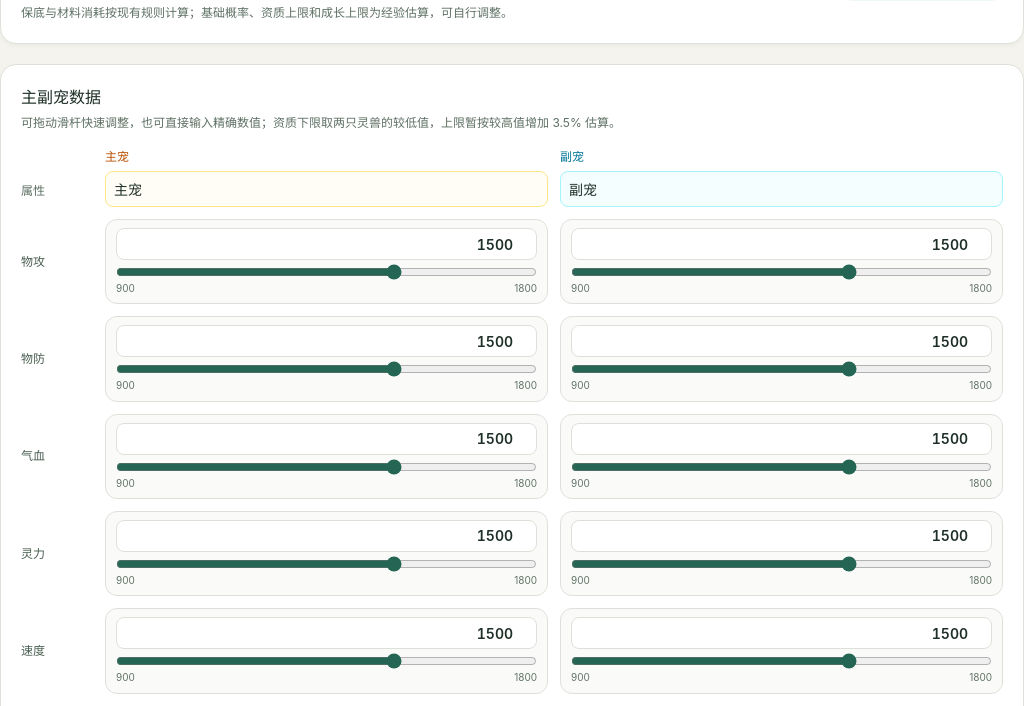
Test: SpiritBeastFusionSimulator › 允许清空资质输入框后重新输入范围内数值
Replace the text in the number field named "主宠物攻资质" with "1300" at (326, 244), box [116, 228, 537, 260]
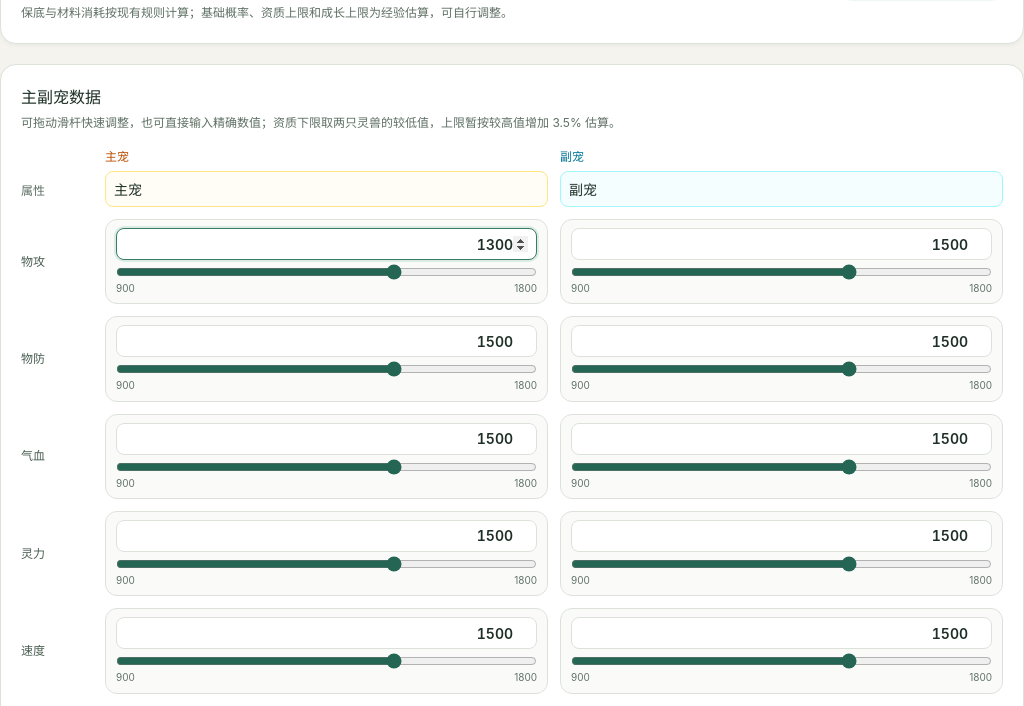
Press Tab
(page scrolled)
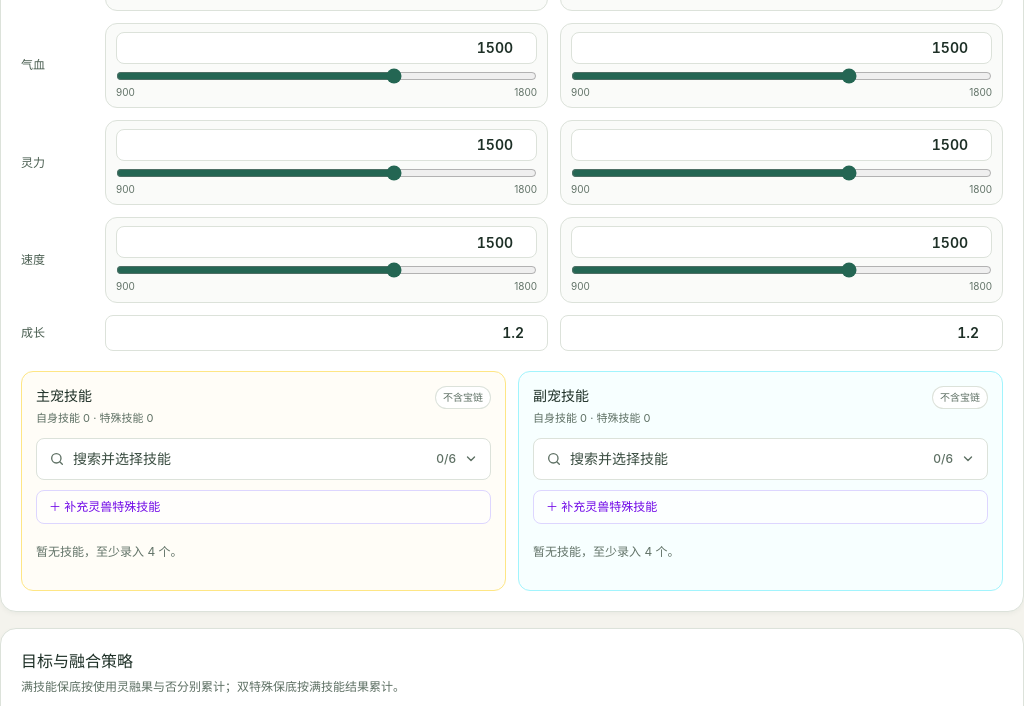
Replace the text in the number field named "主宠成长" with "1.3" at (326, 333), box [105, 315, 548, 351]
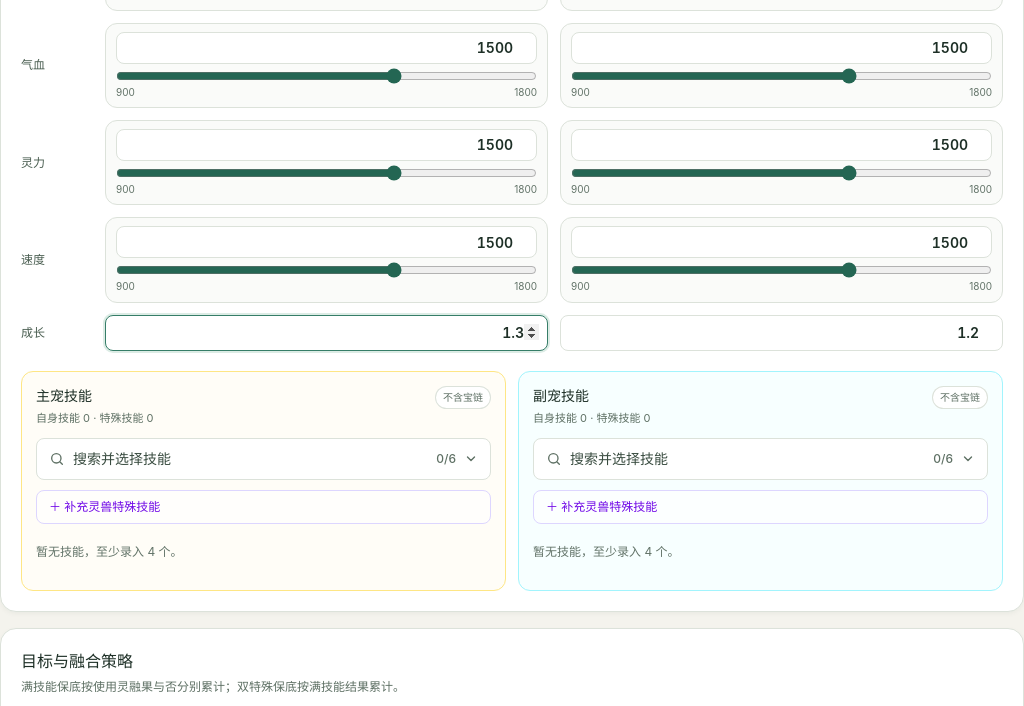
Press Tab
(page scrolled)
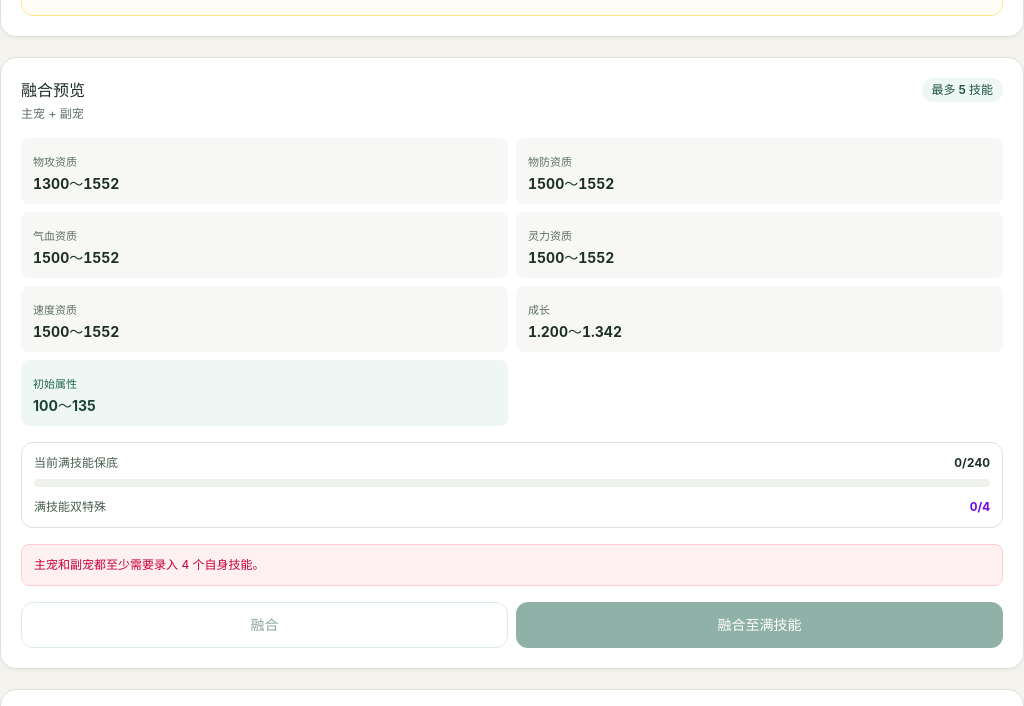
Check: the text "1.200～1.342" is shown, box [528, 323, 622, 340]
